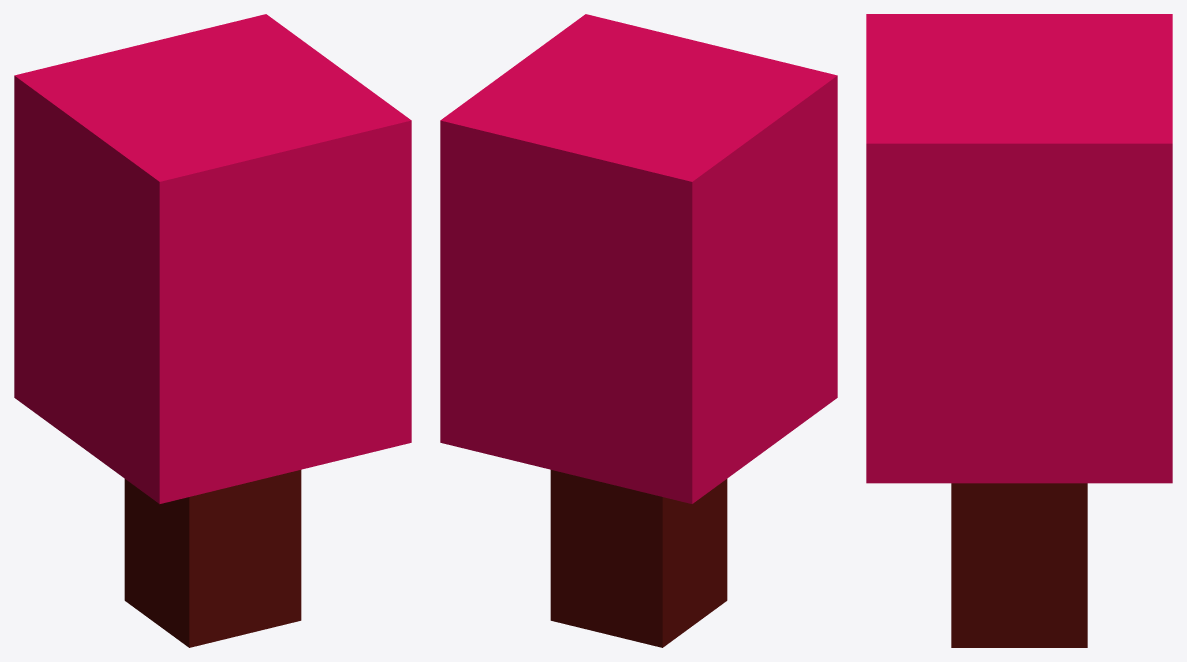
File: Tree_5.fbx
3 views of the same model, side by side, from view 1: azimuth 30°, elevation 25°; view 2: azimuth 150°, elevation 25°; view 3: azimuth 270°, elevation 25° (orthographic). The views are drawn at different scales.
Parts seen in each view (by area): view 1: Tree_5; view 2: Tree_5; view 3: Tree_5.
Boxes of the visible parts, x1,y1,x2,y2 form: Tree_5: [14, 14, 411, 647]; Tree_5: [440, 14, 837, 647]; Tree_5: [866, 14, 1172, 647].
Bounding box in the file's own units: 18 × 35 × 18.
Materials: 1 (1 with a texture image).
